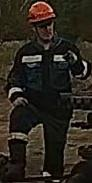gloves: (8, 91, 29, 108), (61, 51, 79, 70)
helmet: (27, 1, 56, 25)
vest: (8, 37, 82, 122)
